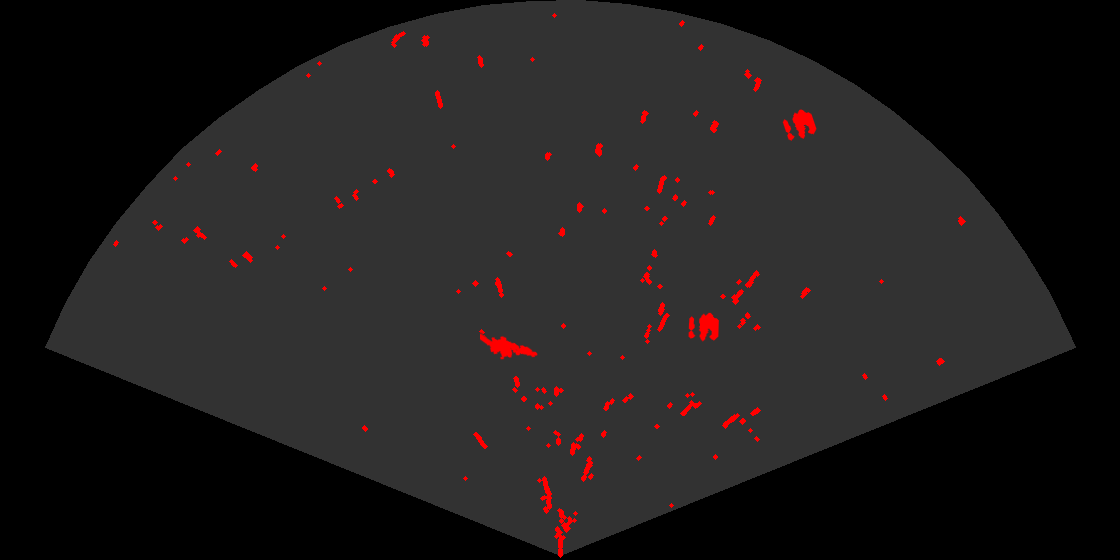ball: (781, 108, 818, 142), (687, 311, 721, 343)
frogman: (480, 332, 539, 361)
